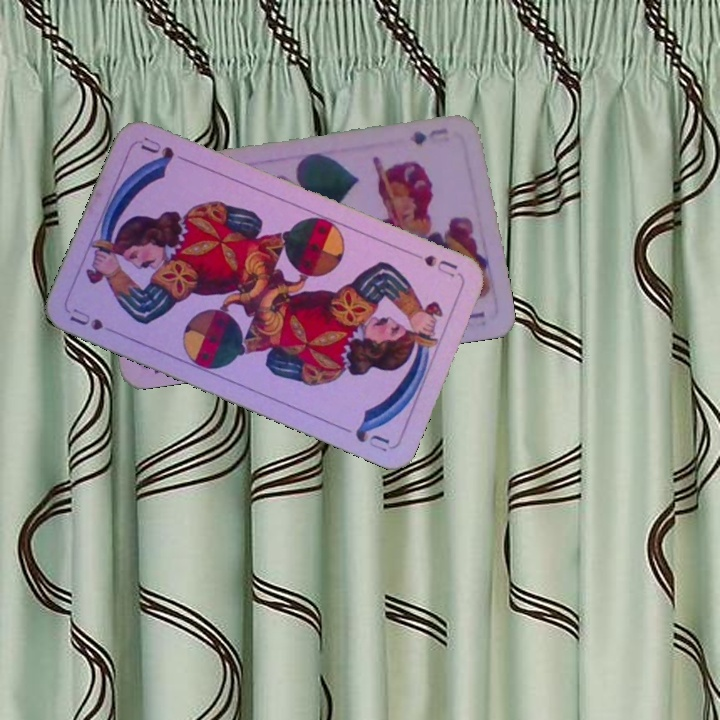GU: (405, 124, 450, 148)
SU: (65, 303, 123, 338), (420, 250, 460, 281)
